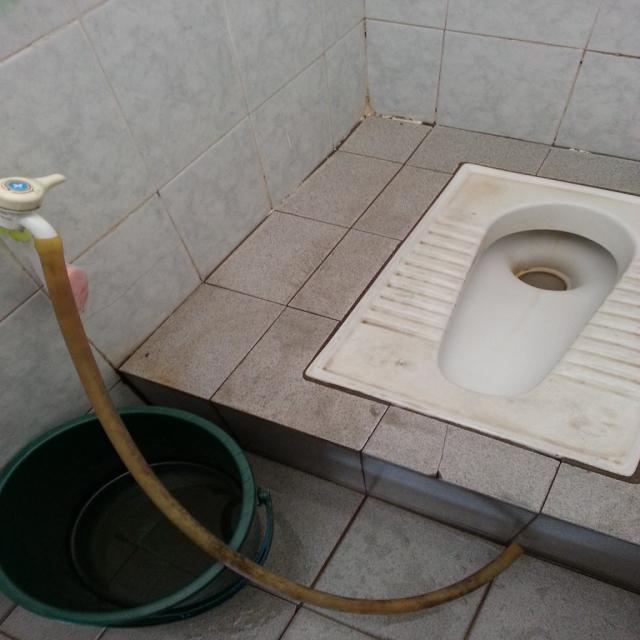dirty_floor: (1, 1, 637, 635), (302, 159, 638, 478), (65, 455, 529, 618), (435, 218, 621, 399), (66, 456, 248, 610), (513, 263, 572, 292)
